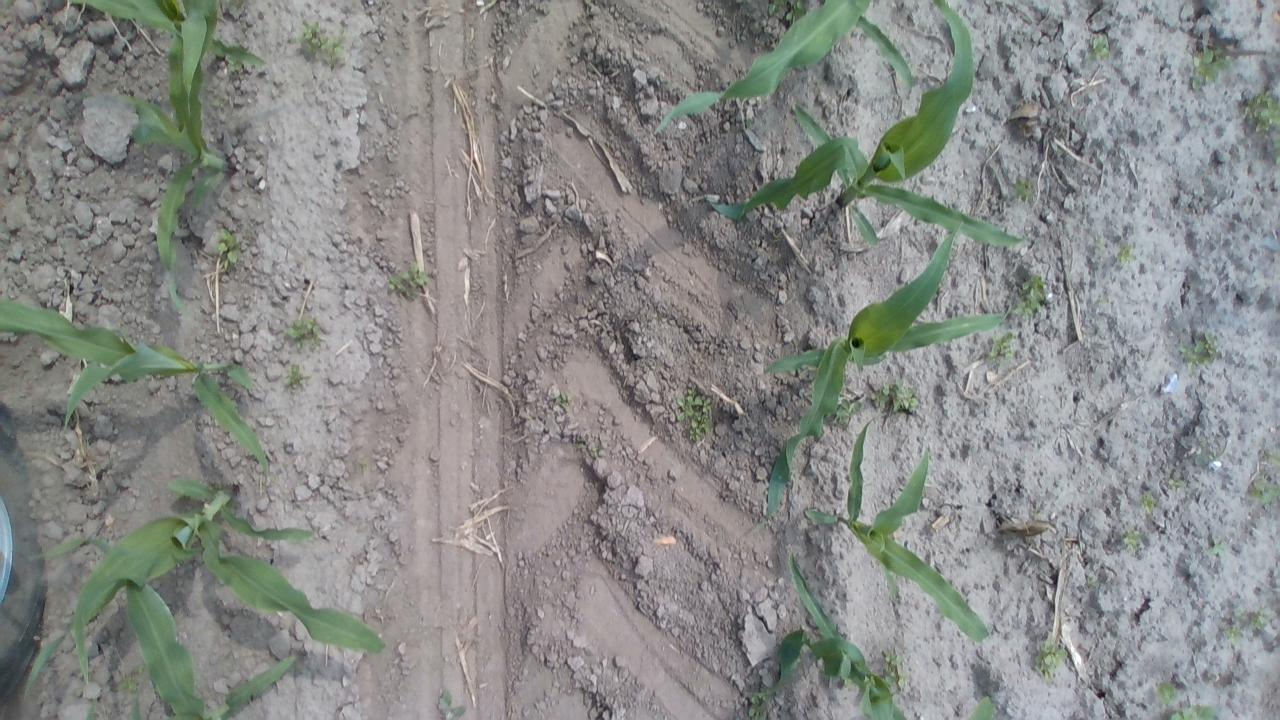Maize: (752, 211, 1030, 534), (24, 465, 396, 703), (708, 1, 1030, 244), (31, 532, 313, 720), (0, 290, 280, 478), (801, 413, 990, 644), (769, 554, 1008, 720), (652, 1, 934, 140), (119, 0, 236, 319), (77, 1, 271, 68)
Weeds: (292, 18, 351, 66), (1188, 40, 1232, 92), (674, 389, 714, 441), (1174, 330, 1221, 374), (1011, 271, 1050, 322), (1239, 86, 1280, 133), (874, 648, 912, 698), (873, 380, 922, 418), (386, 262, 431, 300), (1030, 636, 1069, 678), (984, 326, 1021, 364), (213, 226, 242, 271), (286, 316, 321, 349), (220, 41, 250, 78), (434, 688, 468, 720), (764, 0, 809, 24), (834, 392, 866, 423), (1246, 478, 1280, 507), (1080, 32, 1110, 64), (742, 689, 774, 719), (1163, 703, 1222, 719), (116, 664, 146, 694), (1194, 440, 1222, 470), (1153, 678, 1182, 706), (1120, 526, 1146, 556), (1006, 178, 1038, 202), (282, 362, 308, 388), (1208, 537, 1232, 563), (551, 387, 575, 412), (1138, 488, 1161, 514), (1116, 242, 1138, 268), (1250, 607, 1270, 634), (1224, 620, 1244, 646), (349, 453, 373, 474), (1168, 476, 1192, 494), (1260, 445, 1278, 468), (1084, 573, 1102, 592), (1091, 233, 1107, 250), (1231, 606, 1246, 622), (590, 445, 602, 461), (1274, 137, 1280, 164), (1100, 293, 1110, 307), (212, 99, 225, 108), (1032, 512, 1042, 522), (744, 117, 754, 126), (578, 442, 586, 450)
